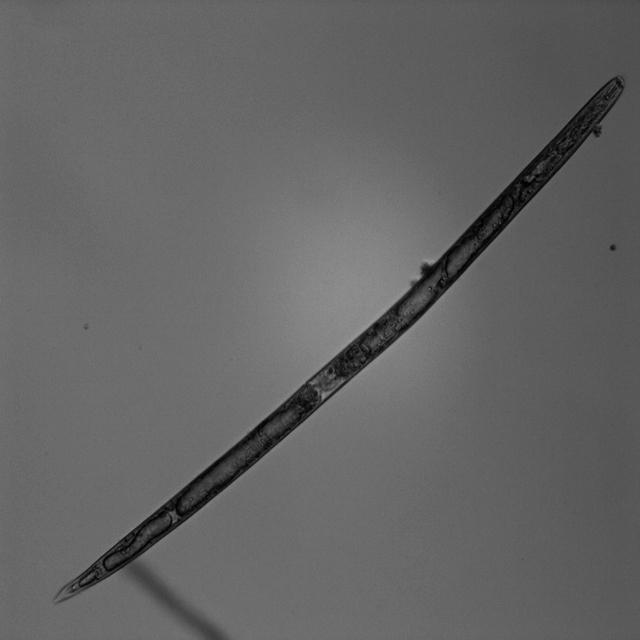Radopholus: (41, 70, 627, 615)
